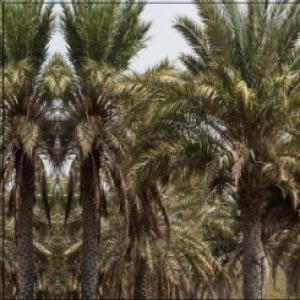palm tree: (144, 0, 299, 299)
